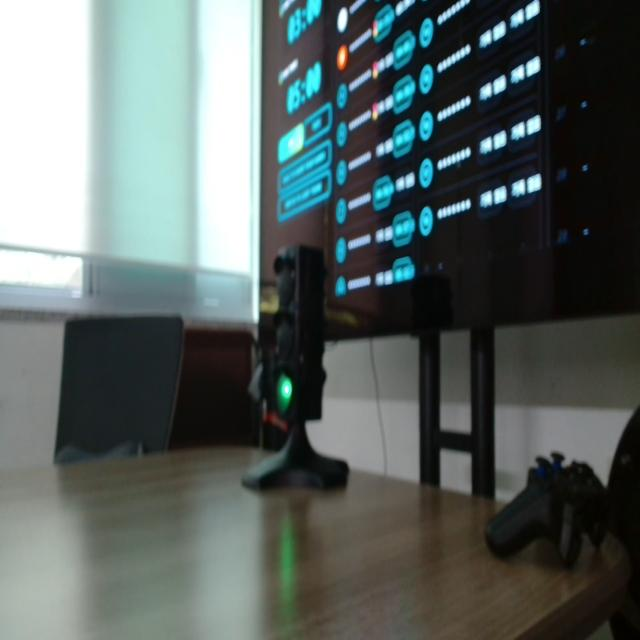green_light: (277, 374, 292, 414)
